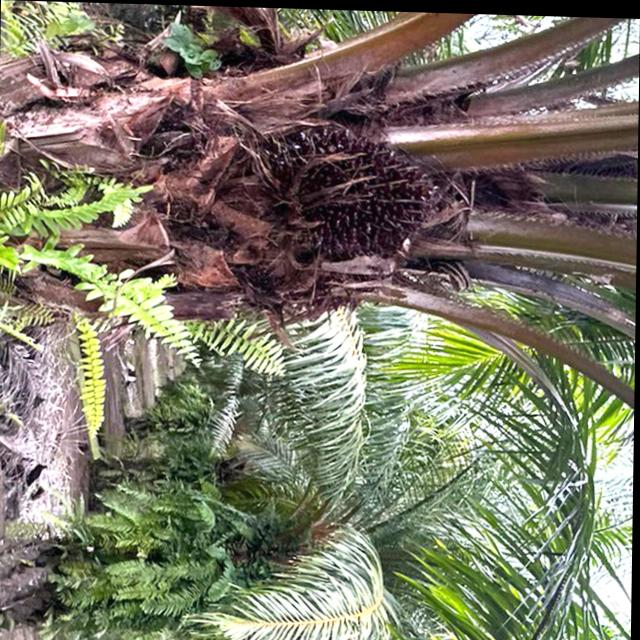ripe: (279, 116, 438, 266)
